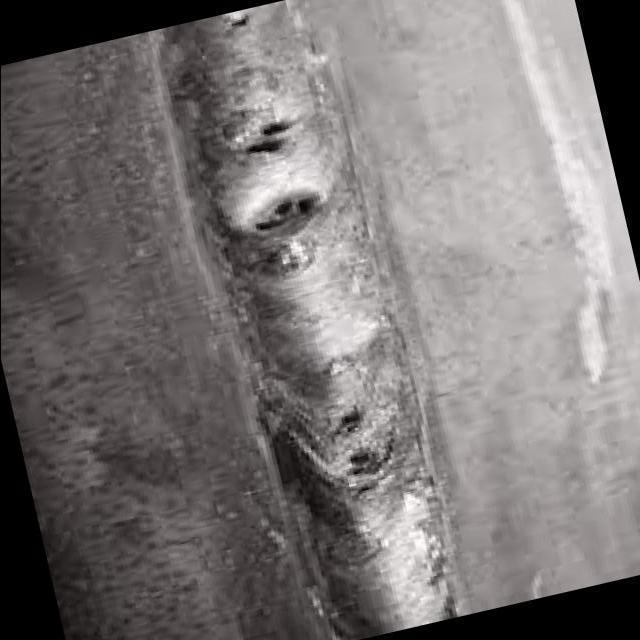defect: (241, 185, 327, 241), (235, 118, 302, 163), (342, 446, 394, 503), (331, 405, 380, 448), (224, 11, 259, 37)
